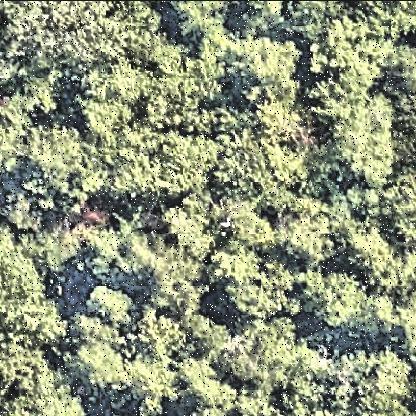tree-top: (73, 310, 175, 411), (3, 4, 125, 76), (87, 221, 197, 299), (322, 89, 402, 189), (310, 12, 402, 94), (1, 229, 59, 356), (212, 250, 296, 320), (328, 346, 414, 414), (136, 133, 220, 201), (23, 117, 83, 193), (301, 269, 371, 332), (164, 193, 230, 259), (232, 33, 304, 93), (1, 369, 89, 416), (169, 358, 239, 416), (216, 323, 274, 389), (275, 209, 335, 269), (379, 161, 416, 252), (80, 278, 138, 330), (1, 93, 33, 176), (166, 2, 232, 42), (2, 187, 46, 237), (393, 31, 416, 109), (394, 287, 416, 365), (235, 1, 289, 24)
